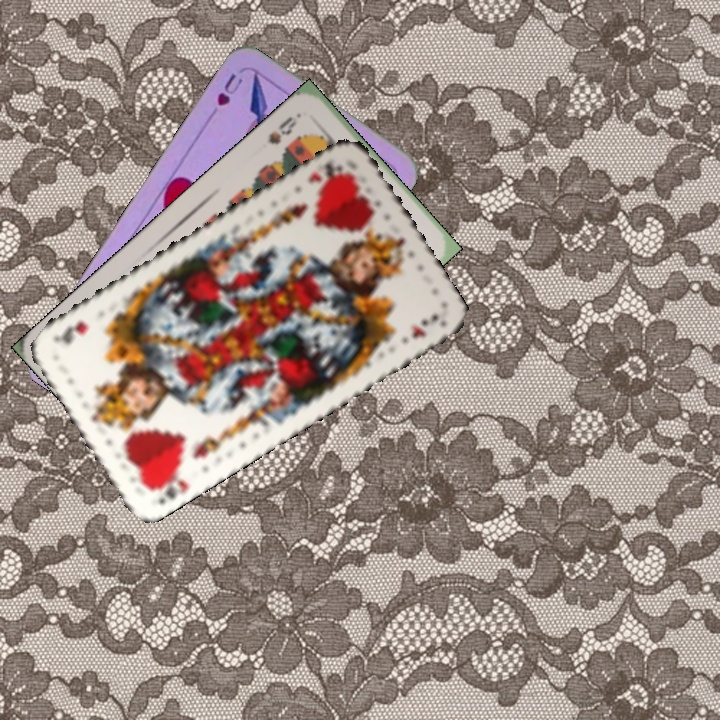HK: (304, 158, 351, 193), (144, 474, 192, 508)
HU: (212, 69, 246, 109)
S8: (264, 108, 304, 148)
